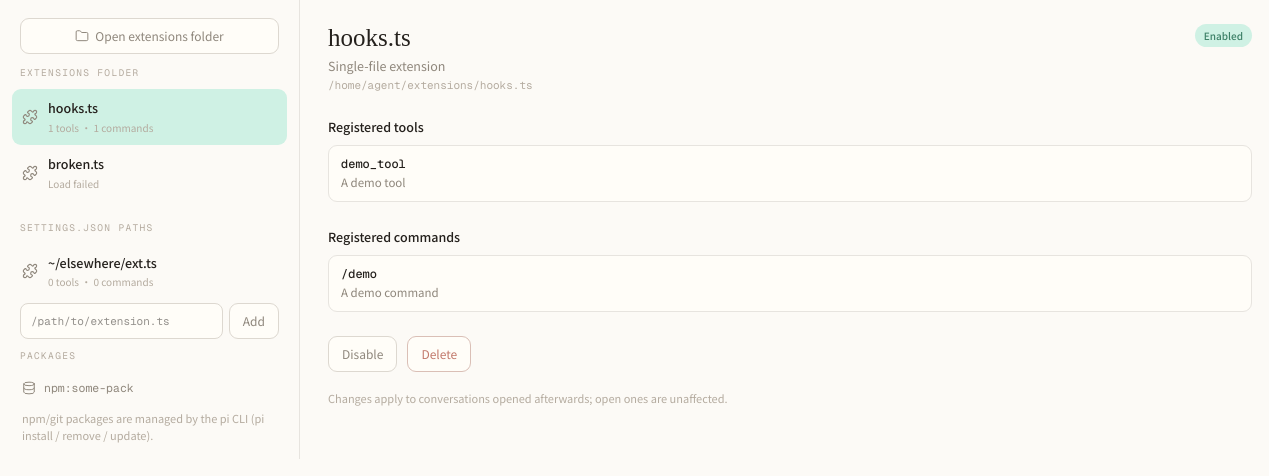
Test: ExtensionsPanel › collapses empty tool and command sections into one state
Click the text "~/elsewhere/ext.ts".
click(102, 262)  # box [48, 252, 157, 272]
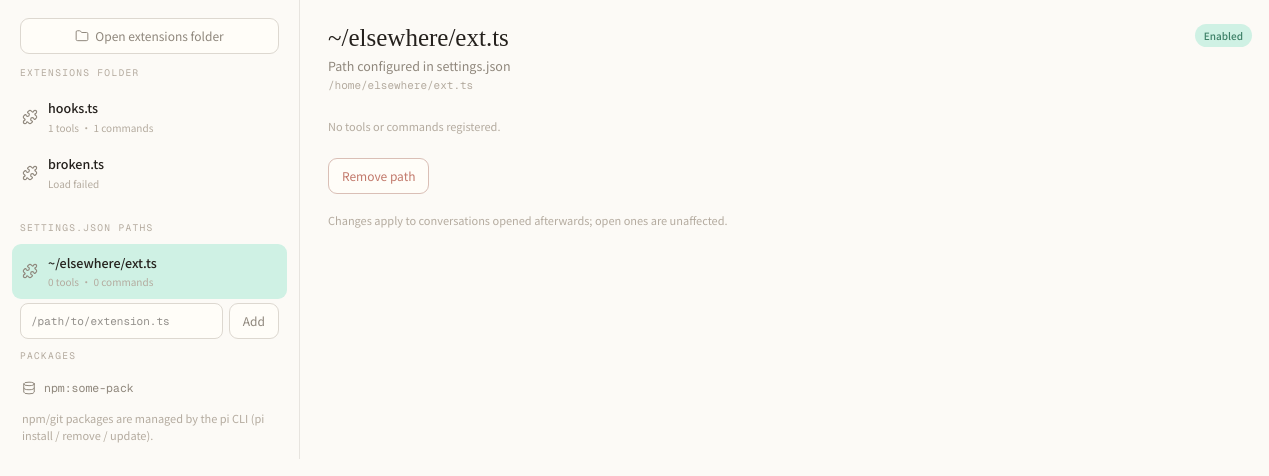
Result: the text "No tools or commands registered." is shown at [328, 118, 500, 134]
Result: the text "Registered tools" is gone
Result: the text "Registered commands" is gone
